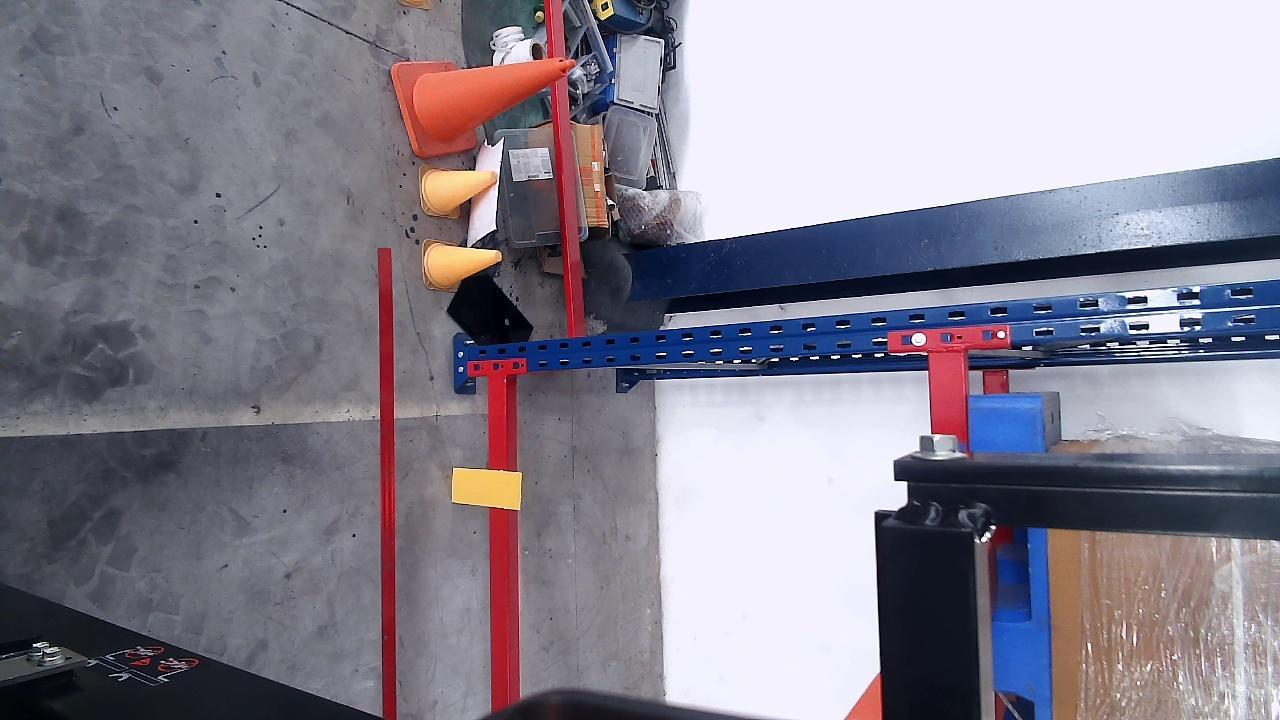h_rack: (490, 378, 516, 709)
orange_strip: (451, 469, 522, 509)
red_line: (377, 247, 399, 719)
small_pallet: (973, 400, 1053, 719)
